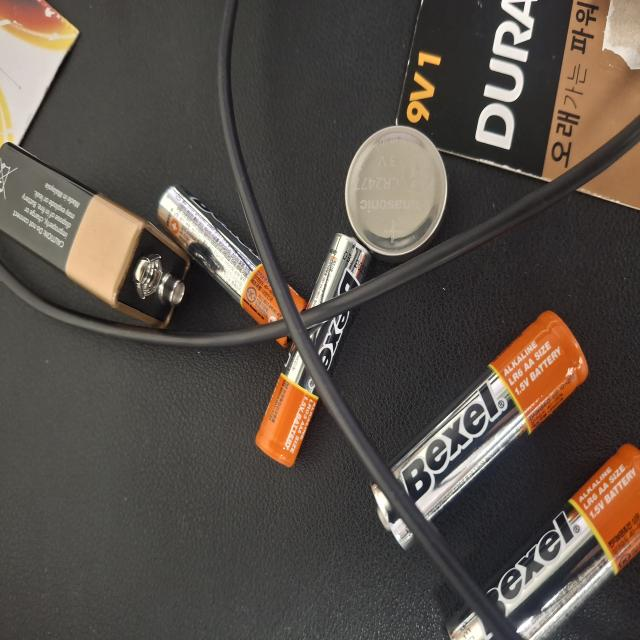AA: (231, 71, 407, 360), (339, 1, 480, 260)
AAA: (137, 445, 259, 640), (174, 362, 325, 482)
COIN: (92, 257, 194, 391)
